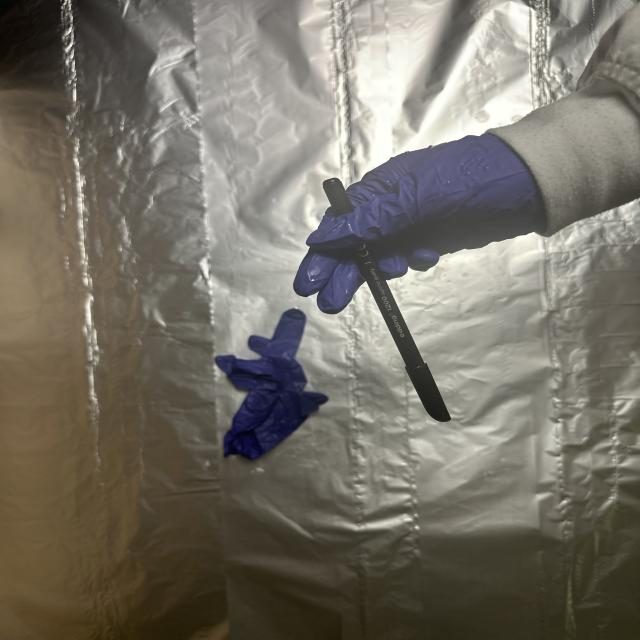gloves_contaminated: (294, 133, 545, 314)
